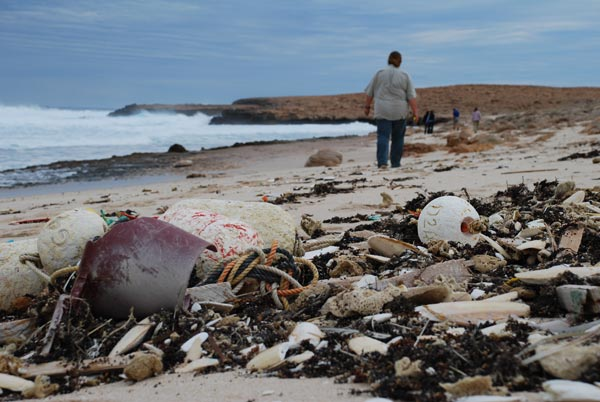litter: (65, 215, 228, 315), (17, 318, 168, 389), (205, 242, 331, 313), (400, 180, 494, 255), (320, 282, 421, 346), (31, 206, 126, 273), (417, 294, 545, 330), (550, 273, 600, 323), (507, 222, 551, 267)
